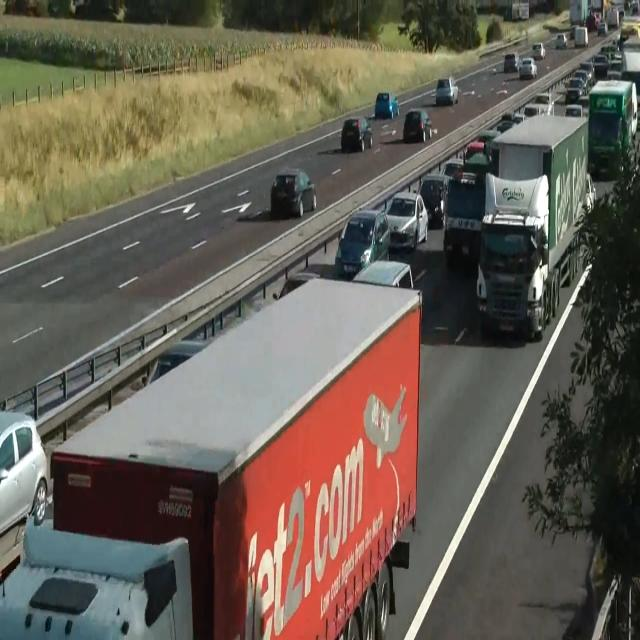bus: (0, 409, 48, 535), (143, 338, 211, 388), (270, 167, 316, 218), (351, 260, 413, 290), (272, 271, 320, 301), (341, 116, 374, 152), (403, 109, 432, 143), (436, 76, 458, 106), (375, 92, 399, 119), (582, 173, 596, 215), (565, 76, 585, 102), (439, 159, 464, 179), (518, 57, 538, 79), (503, 52, 519, 72), (532, 41, 546, 60), (563, 104, 583, 117), (556, 33, 568, 49), (597, 22, 607, 36)
car: (0, 514, 194, 638)
jeep: (442, 169, 486, 263), (334, 206, 390, 278), (384, 190, 428, 252), (417, 173, 449, 226)
minibus: (49, 276, 422, 639), (476, 113, 594, 340), (588, 78, 638, 178)
